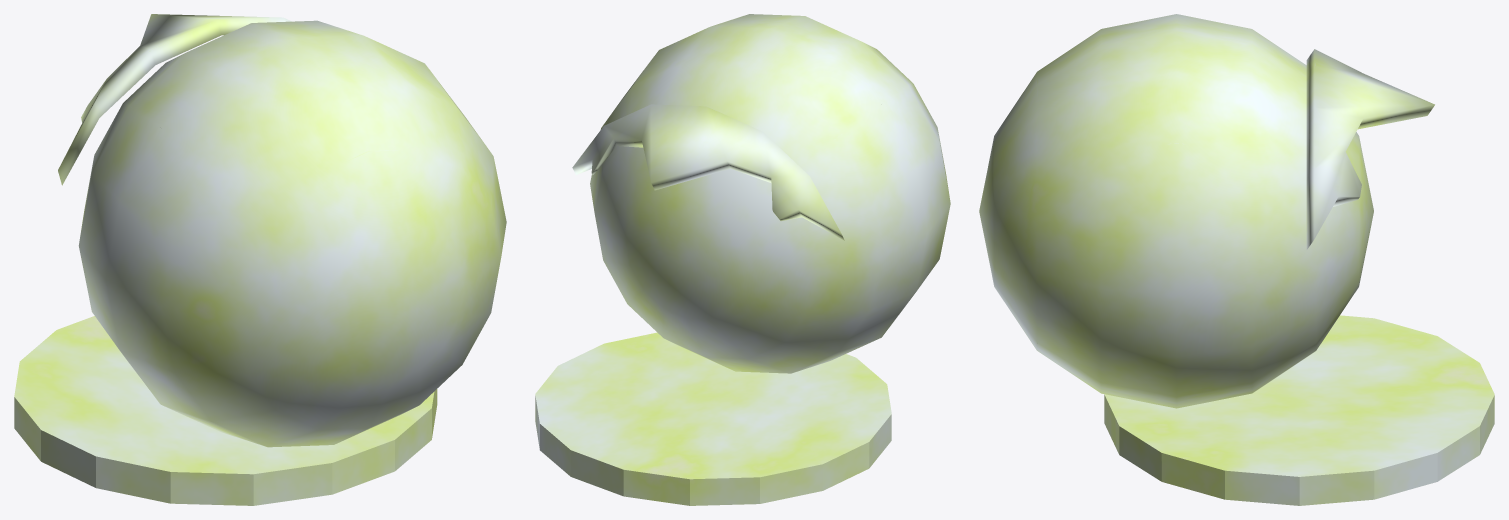
Rendered from RelicBall Apsara.fbx.
3 renders of one model, left to right at view 1: azimuth 30°, elevation 25°; view 2: azimuth 150°, elevation 25°; view 3: azimuth 270°, elevation 25°, orthographic. The views are drawn at different scales.
Visible parts, largest first — view 1: Relic Apsara; view 2: Relic Apsara; view 3: Relic Apsara.
Part boxes in pixels (<box>): Relic Apsara: <box>14,14,506,505</box>; Relic Apsara: <box>535,14,950,505</box>; Relic Apsara: <box>979,14,1494,505</box>.
Bounding box in the file's own units: 32.83 × 35.87 × 42.86.
1 material, 1 textured.
